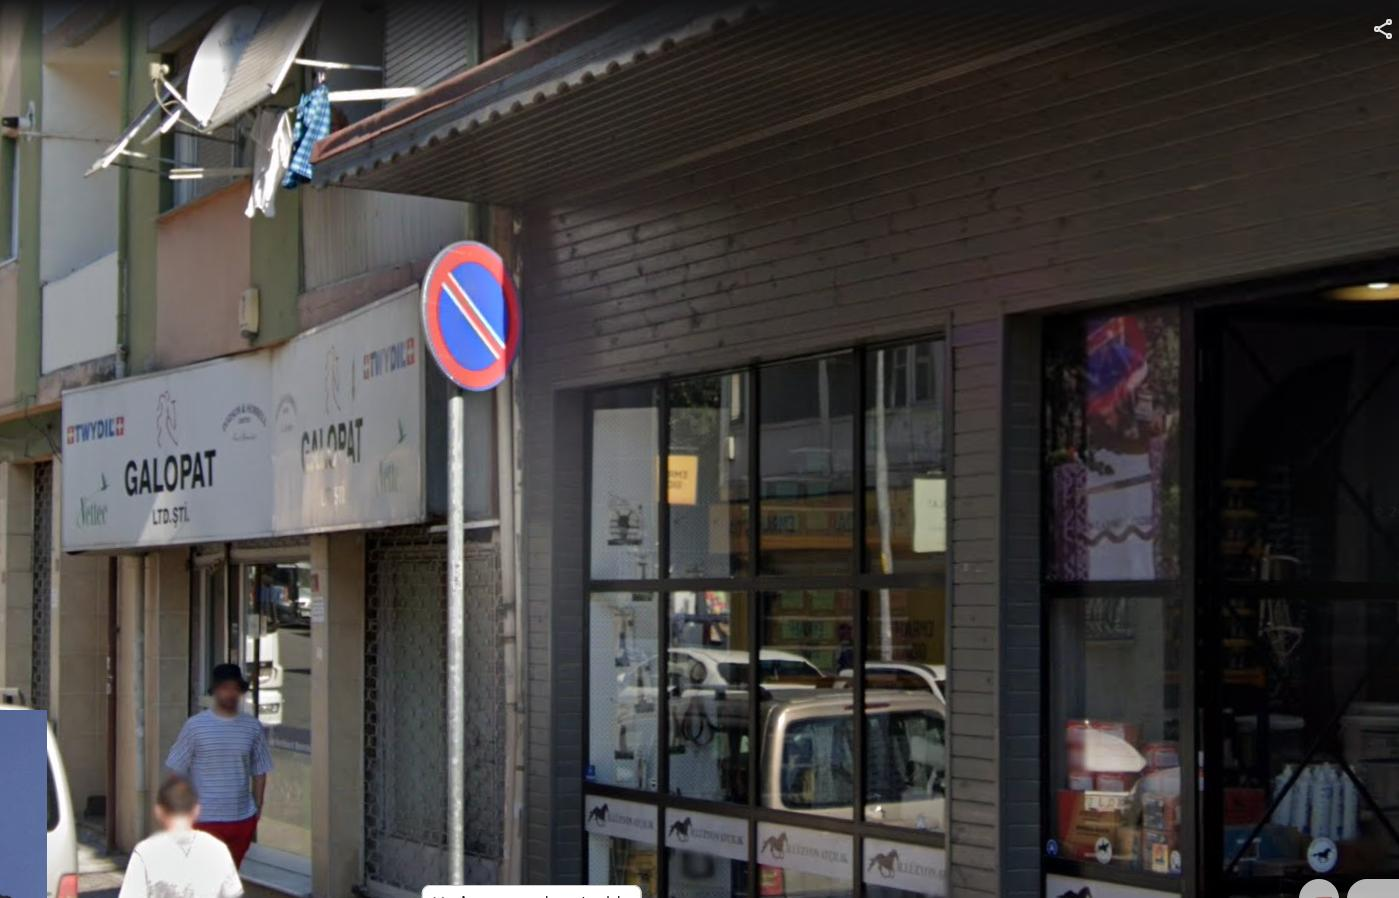nopark: (422, 242, 521, 386)
